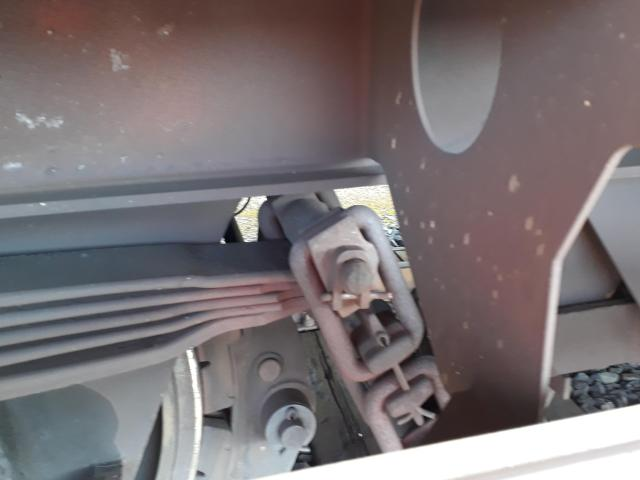blattfederww: (1, 236, 275, 391)
